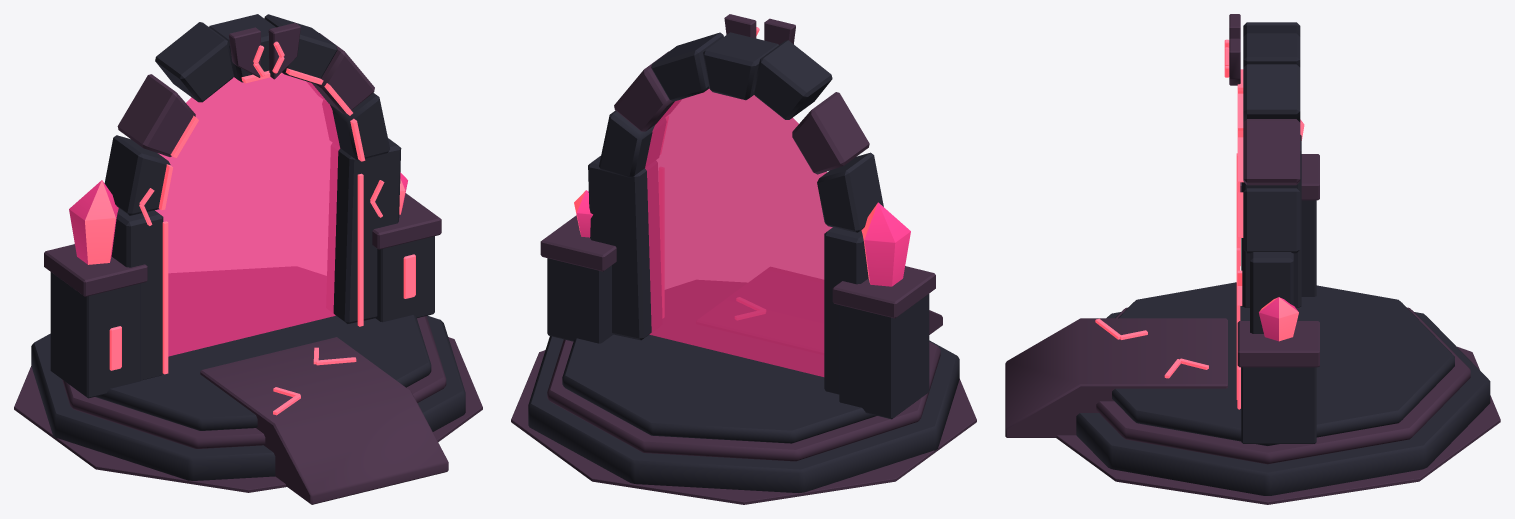
Rendered from enemy_spawn_base.glb.
3 renders of one model, left to right at view 1: azimuth 30°, elevation 25°; view 2: azimuth 150°, elevation 25°; view 3: azimuth 270°, elevation 25°, orthographic.
Visible parts, largest first — view 1: enemy_spawn_portal_surface, enemy_spawn_foundation, enemy_spawn_portal_frame, enemy_spawn_ramp, enemy_spawn_support_left, enemy_spawn_support_right, enemy_spawn_corruption_ground, enemy_spawn_portal_rim, enemy_spawn_corruption_crystal_01, enemy_spawn_broken_rune, enemy_spawn_corruption_cracks; view 2: enemy_spawn_foundation, enemy_spawn_portal_surface, enemy_spawn_portal_frame, enemy_spawn_support_left, enemy_spawn_support_right, enemy_spawn_ramp, enemy_spawn_corruption_ground, enemy_spawn_corruption_crystal_01, enemy_spawn_broken_rune, enemy_spawn_corruption_crystal_02, enemy_spawn_portal_rim; view 3: enemy_spawn_foundation, enemy_spawn_ramp, enemy_spawn_portal_frame, enemy_spawn_support_right, enemy_spawn_corruption_ground, enemy_spawn_support_left, enemy_spawn_portal_rim, enemy_spawn_corruption_crystal_02, enemy_spawn_broken_rune, enemy_spawn_corruption_cracks.
Part boxes in pixels (x1,y1,x2,y2): enemy_spawn_portal_surface: (155, 73, 340, 356); enemy_spawn_foundation: (31, 267, 465, 480); enemy_spawn_portal_frame: (104, 14, 401, 380); enemy_spawn_ramp: (200, 337, 448, 504); enemy_spawn_support_left: (44, 244, 147, 398); enemy_spawn_support_right: (372, 193, 441, 322); enemy_spawn_corruption_ground: (14, 337, 482, 492); enemy_spawn_portal_rim: (158, 68, 365, 374); enemy_spawn_corruption_crystal_01: (69, 180, 118, 264); enemy_spawn_broken_rune: (229, 23, 300, 79); enemy_spawn_corruption_cracks: (139, 180, 384, 415); enemy_spawn_foundation: (528, 280, 959, 493); enemy_spawn_portal_surface: (645, 88, 832, 376); enemy_spawn_portal_frame: (588, 32, 883, 394); enemy_spawn_support_left: (832, 266, 935, 419); enemy_spawn_support_right: (540, 215, 616, 343); enemy_spawn_ramp: (696, 267, 942, 354); enemy_spawn_corruption_ground: (511, 350, 976, 504); enemy_spawn_corruption_crystal_01: (861, 202, 910, 286); enemy_spawn_broken_rune: (724, 14, 795, 44); enemy_spawn_corruption_crystal_02: (574, 190, 592, 237); enemy_spawn_portal_rim: (659, 116, 668, 317); enemy_spawn_foundation: (1076, 282, 1490, 495); enemy_spawn_ramp: (1005, 318, 1227, 437); enemy_spawn_portal_frame: (1242, 22, 1301, 333); enemy_spawn_support_right: (1237, 321, 1319, 443); enemy_spawn_corruption_ground: (1056, 346, 1500, 504); enemy_spawn_support_left: (1240, 154, 1319, 296); enemy_spawn_portal_rim: (1236, 69, 1243, 399); enemy_spawn_corruption_crystal_02: (1259, 297, 1298, 341); enemy_spawn_broken_rune: (1224, 14, 1240, 85); enemy_spawn_corruption_cracks: (1095, 270, 1242, 378).
Size of the model in its own units: 3.24 by 2.92 by 3.49.
